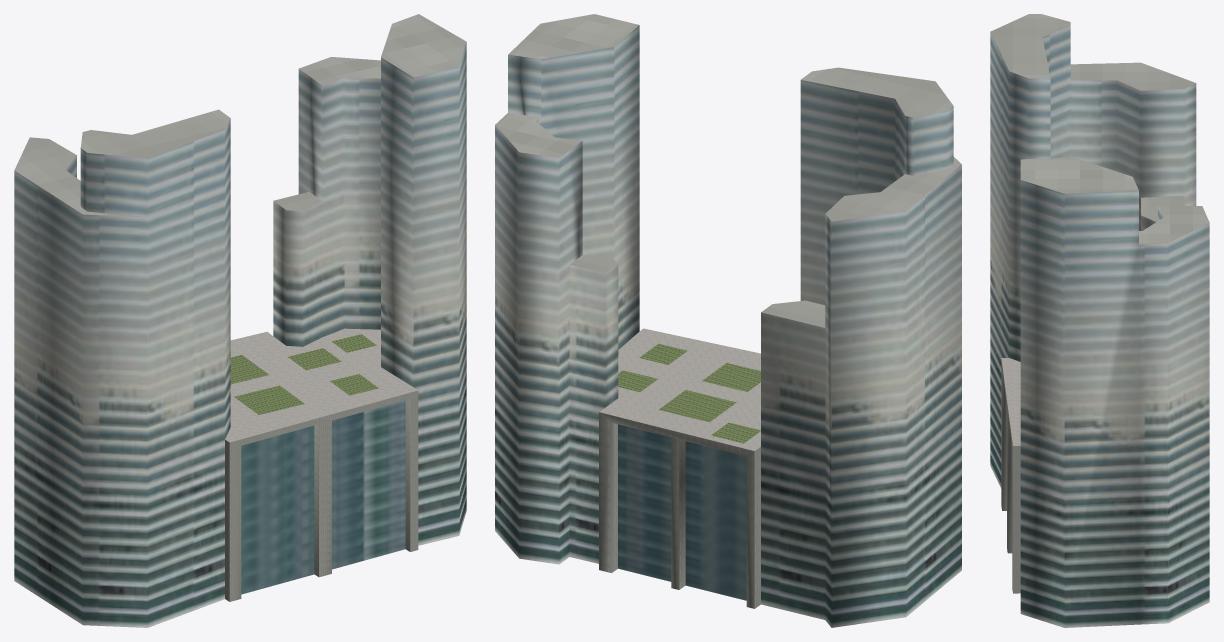
File: Grand_Hyatt_Hotel.dae
3 renders of one model, left to right at view 1: azimuth 30°, elevation 25°; view 2: azimuth 150°, elevation 25°; view 3: azimuth 270°, elevation 25°, orthographic. The views are drawn at different scales.
Parts seen in each view (by area): view 1: _Beige_2, _Black_, _Brown_, Tile_Travertine_2inch, _Silver_, Vegetation_Spirea, FrontColor; view 2: _Beige_2, _Black_, _Brown_, Tile_Travertine_2inch, _Silver_, Vegetation_Spirea, FrontColor; view 3: _Beige_2, _Brown_, _Silver_, Tile_Travertine_2inch, FrontColor.
Boxes of the visible parts, x1,y1,x2,y2 form: _Beige_2: [14, 42, 466, 627]; _Black_: [241, 400, 405, 594]; _Brown_: [14, 14, 466, 217]; Tile_Travertine_2inch: [225, 328, 417, 442]; _Silver_: [229, 390, 418, 601]; Vegetation_Spirea: [230, 334, 378, 414]; FrontColor: [225, 399, 410, 601]; _Beige_2: [495, 25, 961, 627]; _Black_: [618, 424, 746, 600]; _Brown_: [495, 14, 961, 327]; Tile_Travertine_2inch: [599, 328, 760, 450]; _Silver_: [599, 412, 754, 608]; Vegetation_Spirea: [618, 343, 760, 443]; FrontColor: [679, 439, 760, 608]; _Beige_2: [990, 26, 1209, 627]; _Brown_: [990, 14, 1209, 244]; _Silver_: [1001, 359, 1012, 591]; Tile_Travertine_2inch: [1001, 358, 1020, 445]; FrontColor: [1013, 446, 1020, 593].
Bounding box in the file's own units: 217 × 108 × 237.
Materials: 5 (5 with a texture image).
